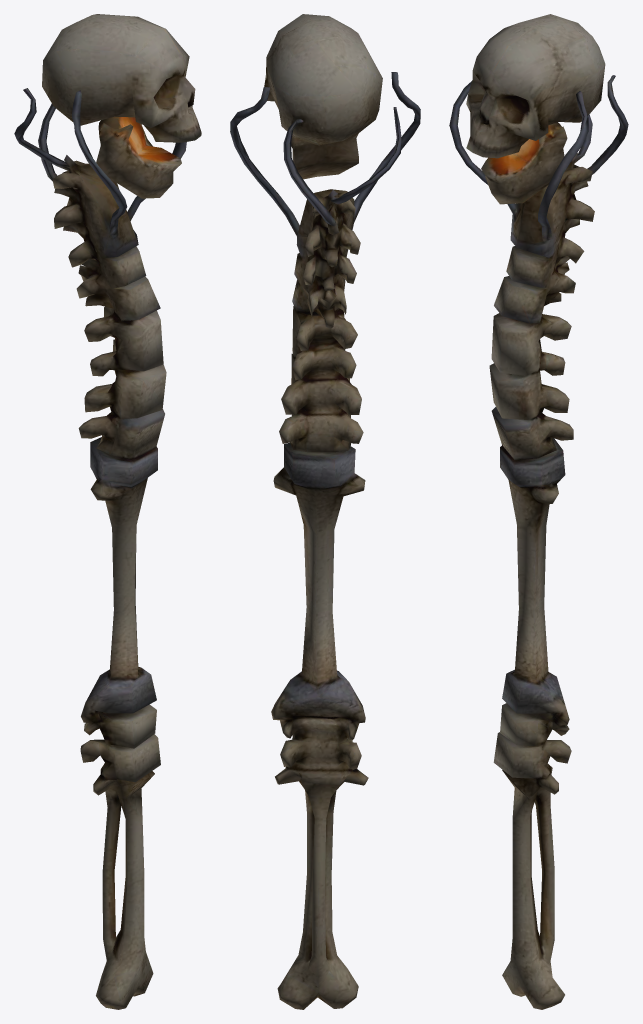
File: gear_bone_staff.glb
The picture shows the model from 3 angles, left to right: view 1: azimuth 30°, elevation 25°; view 2: azimuth 150°, elevation 25°; view 3: azimuth 270°, elevation 25°; orthographic projection.
Parts seen in each view (by area): view 1: tripo_node_56738a0f-52f5-40bc-9b41-11744e331338; view 2: tripo_node_56738a0f-52f5-40bc-9b41-11744e331338; view 3: tripo_node_56738a0f-52f5-40bc-9b41-11744e331338.
Part boxes in pixels (x1,y1,x2,y2): tripo_node_56738a0f-52f5-40bc-9b41-11744e331338: (14, 14, 201, 1009); tripo_node_56738a0f-52f5-40bc-9b41-11744e331338: (230, 14, 420, 1009); tripo_node_56738a0f-52f5-40bc-9b41-11744e331338: (449, 14, 628, 1009).
Size of the model in its own units: 0.1778 by 0.998 by 0.1659.
1 material, 1 textured.
